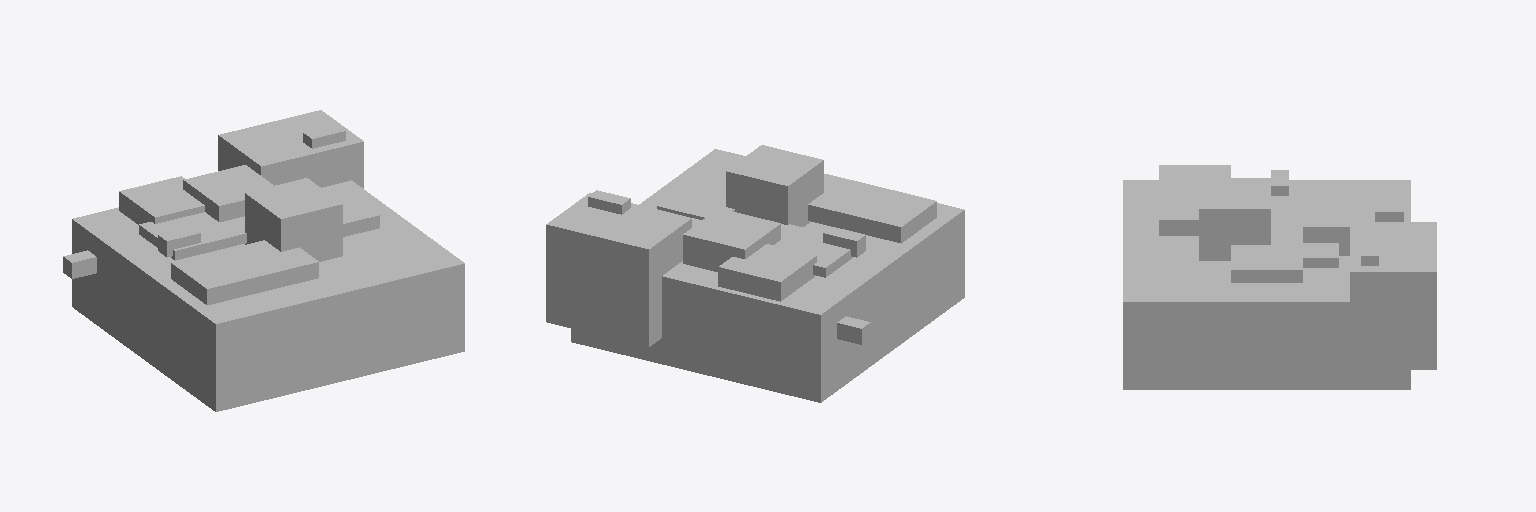
Rendered from Stone.obj.
3 views of the same model, side by side, from view 1: azimuth 30°, elevation 25°; view 2: azimuth 150°, elevation 25°; view 3: azimuth 270°, elevation 25° (orthographic).
Visible parts, largest first — view 1: cube; view 2: cube; view 3: cube.
Boxes of the visible parts, x1=… form: cube: x1=63, y1=110, x2=464, y2=411; cube: x1=546, y1=145, x2=964, y2=402; cube: x1=1123, y1=165, x2=1436, y2=389.
Bounding box in the file's own units: 0.575 × 0.2688 × 0.5437.